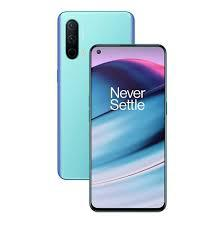Smartphone: (62, 10, 136, 182), (91, 45, 166, 210)
